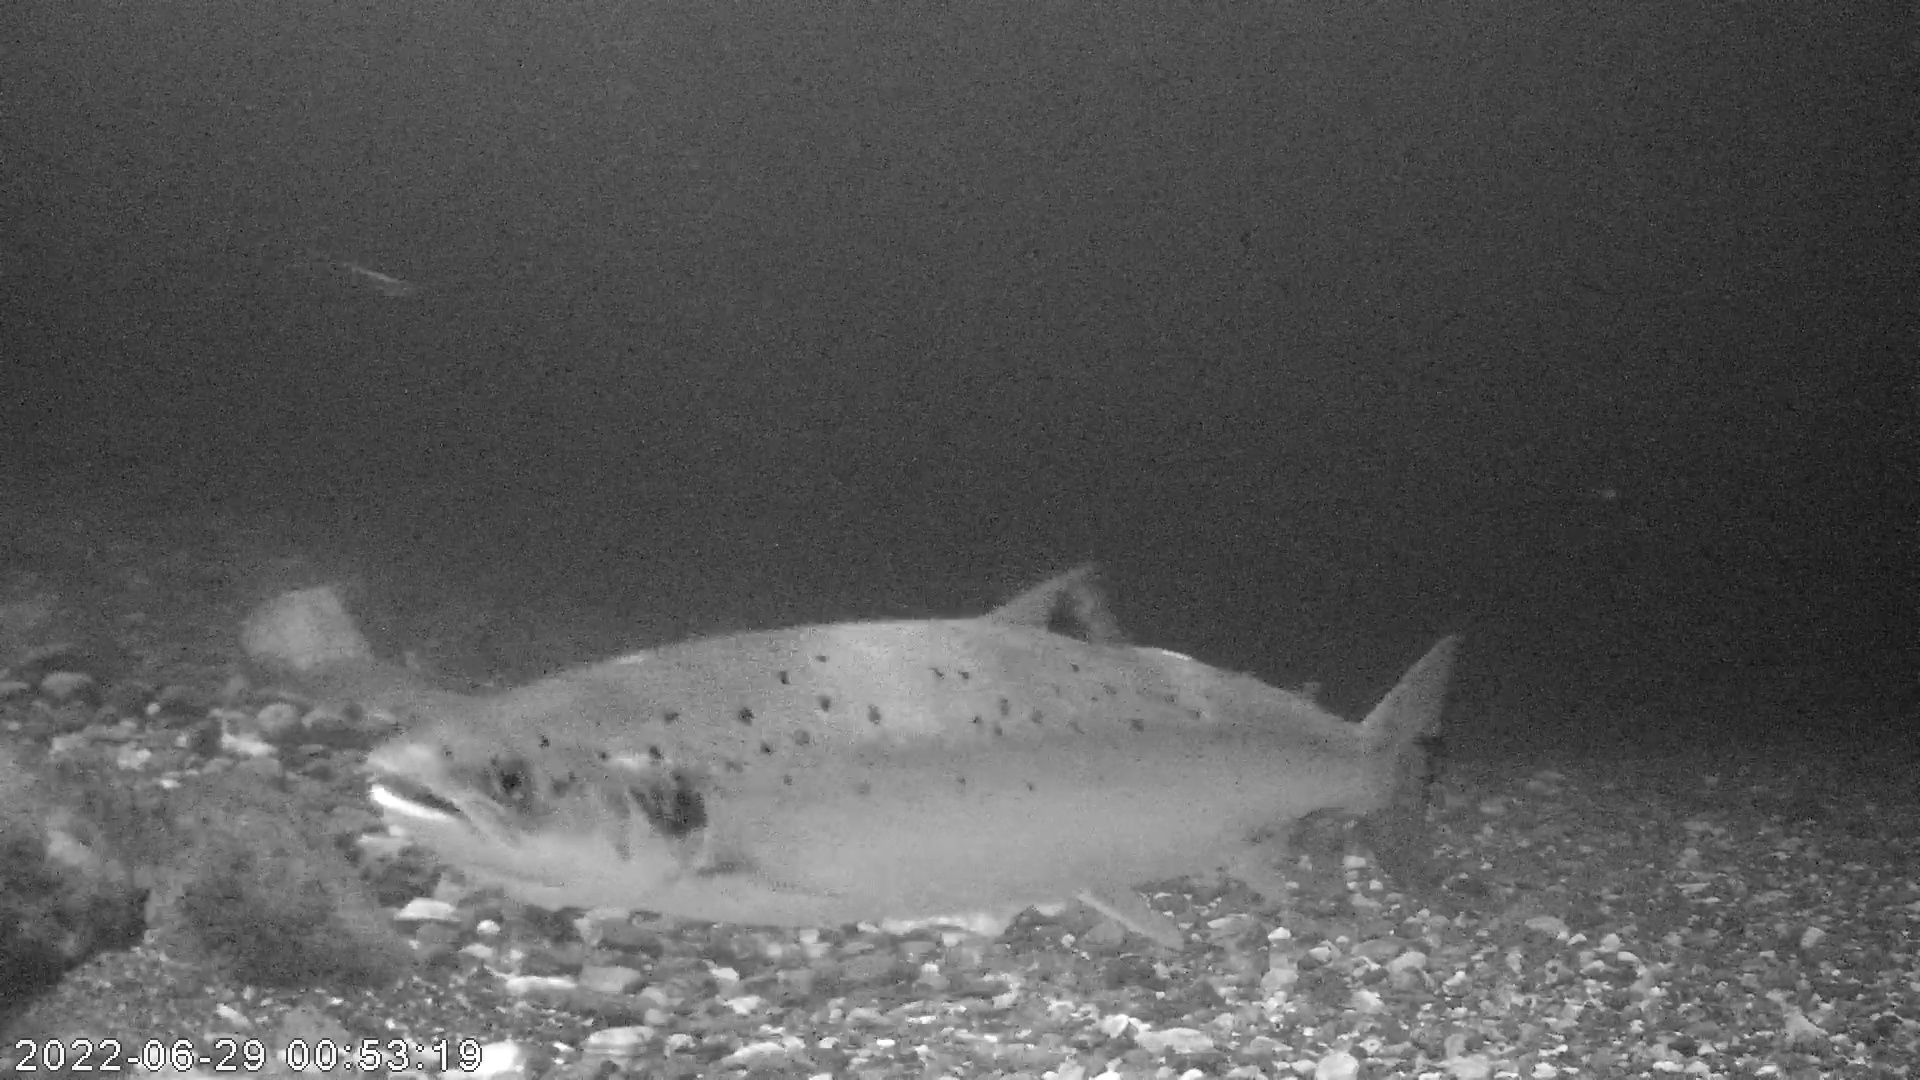salmon: (355, 543, 1464, 957)
